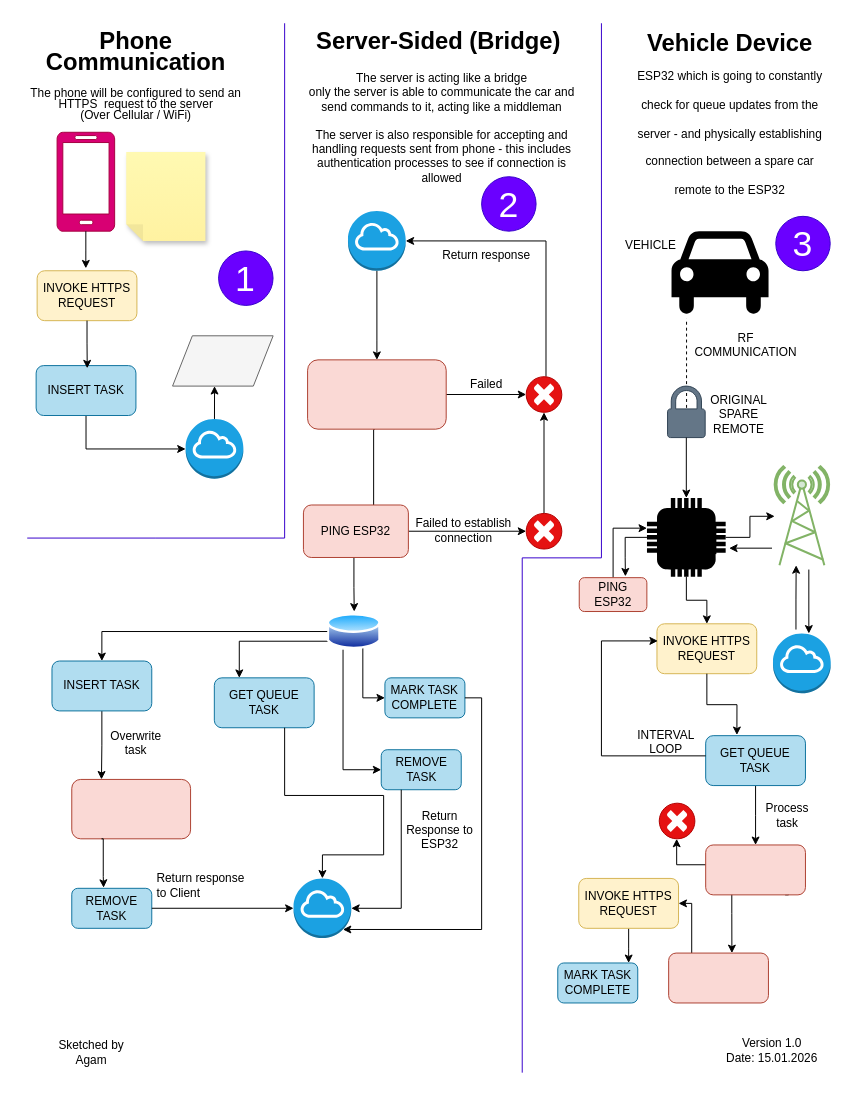
This 848x1094 diagram has some shape labels left out. Here are the shapes that lost their labels. From the top down, the centre of each, then its label:
At point (166, 198): "Example Tasks Unlock car Lock car".
At point (222, 360): "Show output".
At point (376, 394): "AUTHENTICATION ALGORITHM".
At point (686, 539): "ESP32 CHIP".
At point (131, 808): "AWAIT TASK COMPLETION".
At point (755, 869): "TIME GAP VALIDATOR".
At point (718, 977): "TASK EXECUTOR LOCK/UNLOCK".
